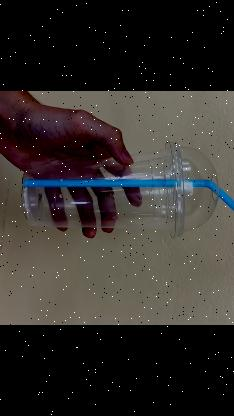Others: (21, 138, 234, 241)
